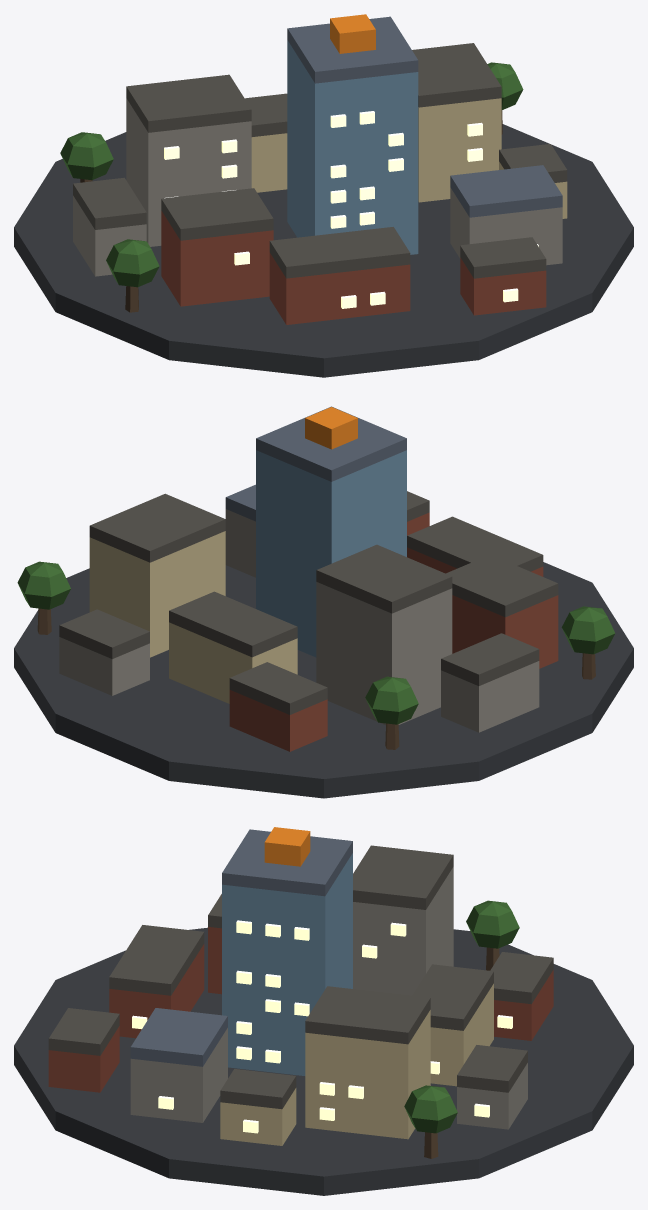
File: overworld-settlement-town.glb
The picture shows the model from 3 angles, top to bottom: view 1: azimuth 30°, elevation 25°; view 2: azimuth 150°, elevation 25°; view 3: azimuth 270°, elevation 25°; orthographic projection.
Parts seen in each view (by area): view 1: settlement, pad; view 2: settlement, pad; view 3: settlement, pad.
Part boxes in pixels (x1=…): settlement: x1=60, y1=14, x2=567, y2=324; pad: x1=14, y1=124, x2=633, y2=377; settlement: x1=17, y1=406, x2=615, y2=751; pad: x1=14, y1=562, x2=633, y2=798; settlement: x1=48, y1=827, x2=553, y2=1158; pad: x1=14, y1=927, x2=633, y2=1195.
Size of the model in its own units: 0.58 by 0.241 by 0.58.
